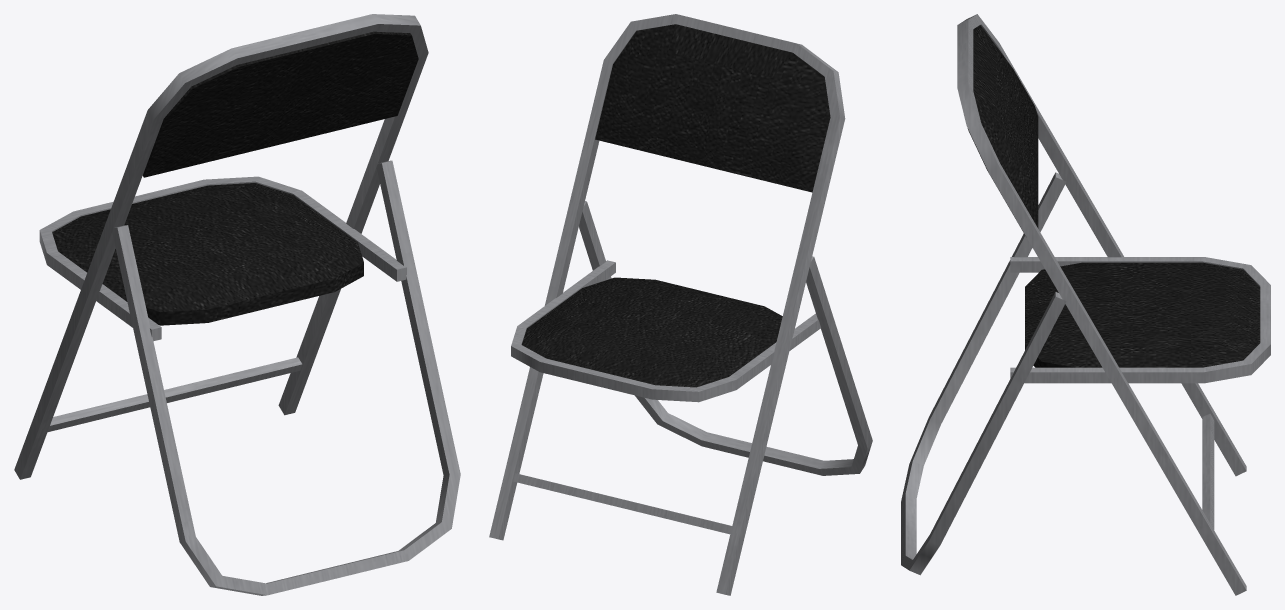
The model's file is Chair_09.glb.
3 renders of one model, left to right at view 1: azimuth 30°, elevation 25°; view 2: azimuth 150°, elevation 25°; view 3: azimuth 270°, elevation 25°, orthographic. The views are drawn at different scales.
Parts seen in each view (by area): view 1: Chair_09; view 2: Chair_09; view 3: Chair_09.
Part boxes in pixels (<box>): Chair_09: <box>14,14,460,595</box>; Chair_09: <box>489,14,872,595</box>; Chair_09: <box>901,14,1270,595</box>.
Bounding box in the file's own units: 0.5468 × 0.9979 × 0.6876.
Materials: 2 (2 with a texture image).
